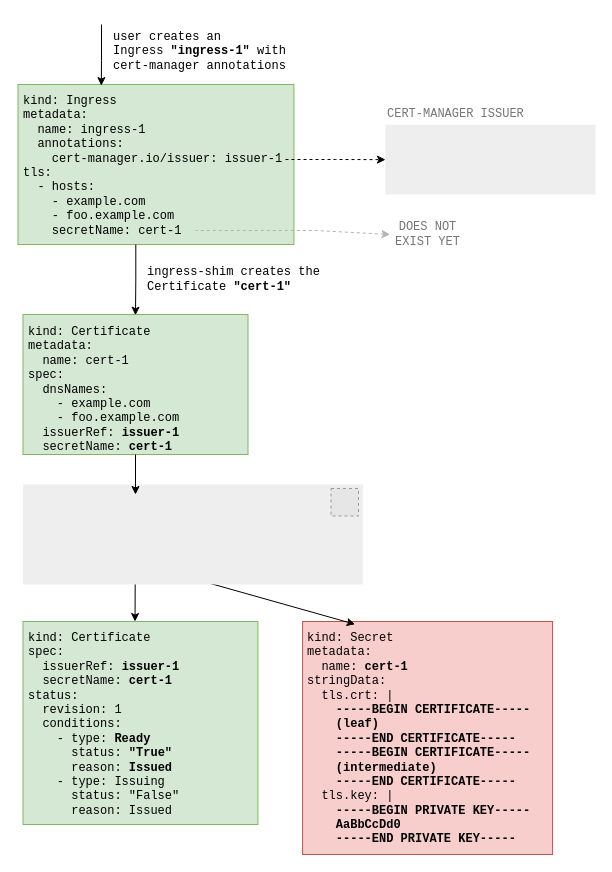
This 612x872 diagram has some shape labels left out. Grey dashed boxes stand in for pictures. The box of each missing label's shape, as (x1, y1, x2, y2) in pixels:
Certificate Flow [1]: (22, 484, 362, 584)
kind: Issuer metadata: name: issuer-1 spec: ...: (385, 124, 595, 194)
